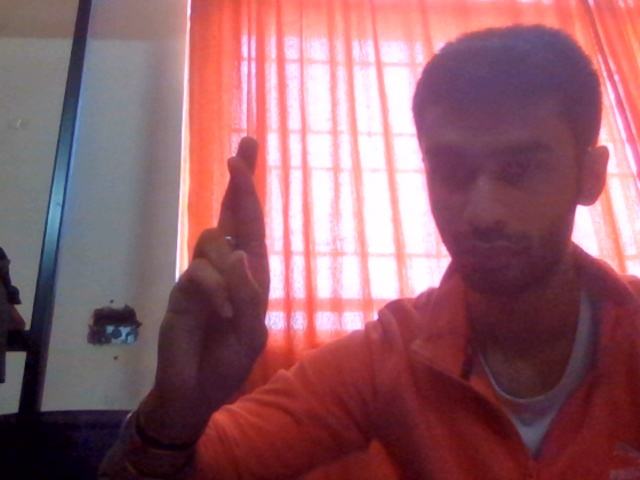R: (137, 112, 322, 436)
